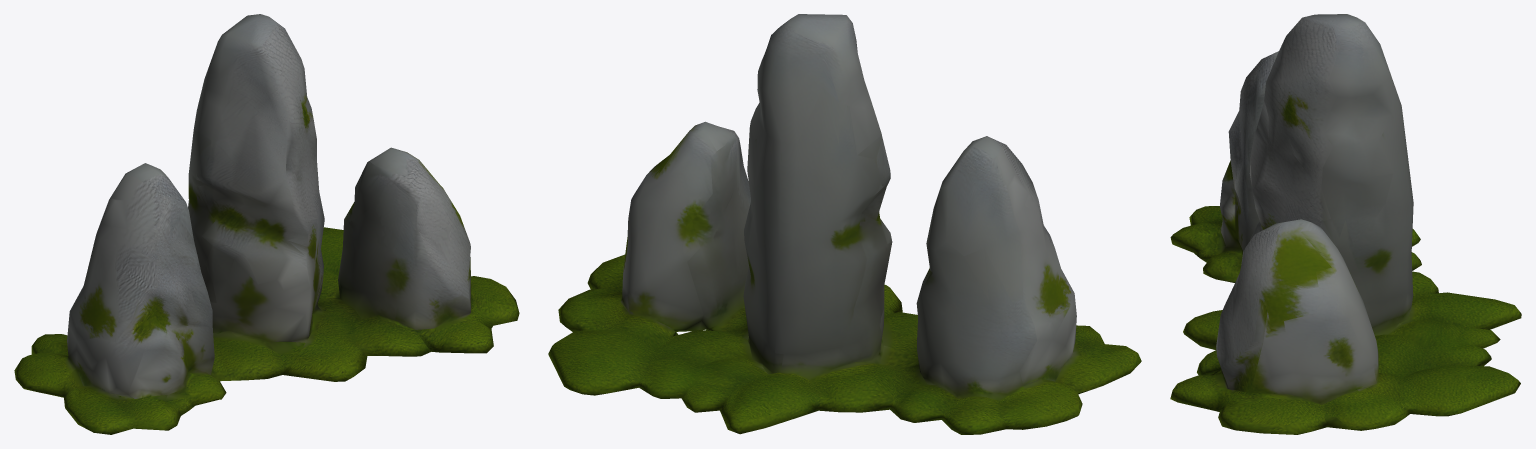
File: rock_formation_large_b.glb
The picture shows the model from 3 angles, left to right: view 1: azimuth 30°, elevation 25°; view 2: azimuth 150°, elevation 25°; view 3: azimuth 270°, elevation 25°; orthographic projection. The views are drawn at different scales.
Visible parts, largest first — view 1: node_0; view 2: node_0; view 3: node_0.
Boxes of the visible parts, <box> form: node_0: <box>14,14,519,434</box>; node_0: <box>548,14,1141,434</box>; node_0: <box>1170,14,1521,434</box>.
Bounding box in the file's own units: 3.4 × 2.15 × 2.21.
1 material, 1 textured.
